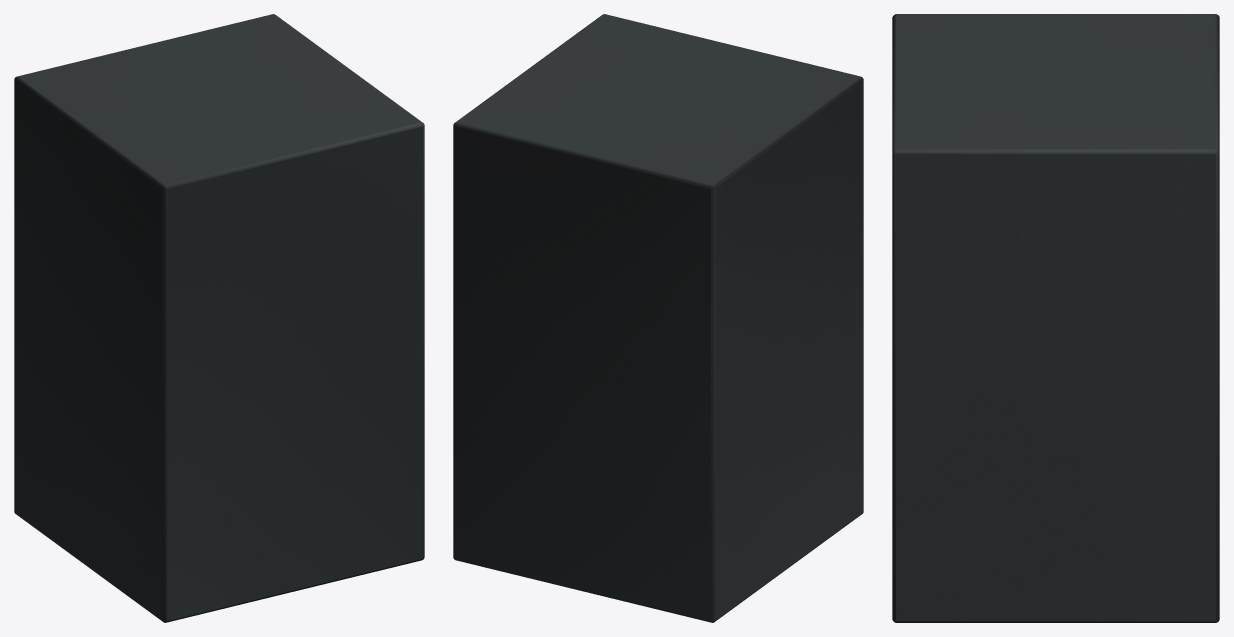
Rendered from tiago_80_black_wood.glb.
3 renders of one model, left to right at view 1: azimuth 30°, elevation 25°; view 2: azimuth 150°, elevation 25°; view 3: azimuth 270°, elevation 25°, orthographic. The views are drawn at different scales.
Visible parts, largest first — view 1: tiago_80_part1; view 2: tiago_80_part1; view 3: tiago_80_part1.
Part boxes in pixels (<box>): tiago_80_part1: <box>14,14,424,622</box>; tiago_80_part1: <box>453,14,863,622</box>; tiago_80_part1: <box>892,14,1219,622</box>.
Bounding box in the file's own units: 0.4998 × 0.7987 × 0.4998.
1 material, 1 textured.
